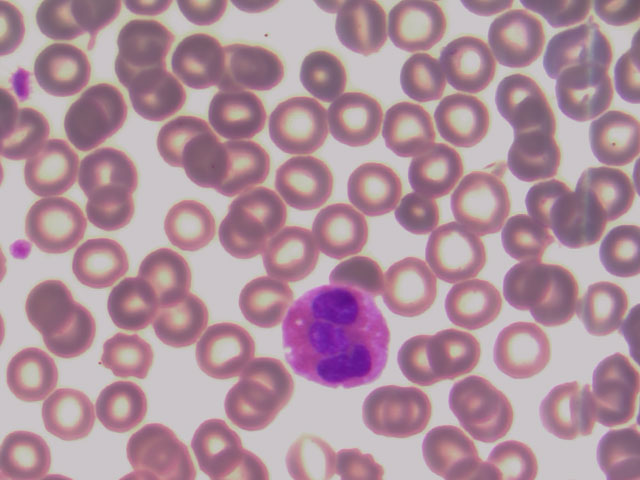Platelets: (6, 62, 34, 100), (6, 234, 35, 263)
RBC: (35, 43, 90, 100), (73, 82, 128, 139), (24, 135, 79, 192), (2, 106, 57, 163), (32, 198, 87, 255), (78, 142, 133, 199), (84, 180, 139, 237), (162, 199, 217, 256), (77, 229, 132, 286), (22, 271, 77, 328), (40, 304, 95, 361), (3, 346, 58, 403), (42, 382, 97, 439), (90, 377, 145, 434), (101, 327, 156, 384), (103, 283, 158, 340), (136, 241, 191, 298), (150, 284, 205, 341), (196, 322, 251, 379), (236, 350, 291, 407), (225, 387, 280, 444), (190, 416, 245, 473), (130, 420, 185, 477), (275, 423, 330, 480), (355, 386, 410, 443), (388, 385, 443, 442), (390, 333, 445, 390), (425, 321, 480, 378), (382, 256, 437, 313), (312, 203, 367, 260), (261, 228, 316, 285), (239, 265, 294, 322), (213, 207, 268, 264), (226, 183, 281, 240), (218, 138, 273, 195), (180, 132, 235, 189), (158, 116, 213, 173), (129, 75, 184, 132), (112, 46, 167, 103), (120, 14, 175, 71), (171, 31, 226, 88), (228, 39, 283, 96), (211, 81, 266, 138), (271, 97, 326, 154), (301, 45, 356, 102), (325, 94, 380, 151), (380, 103, 435, 160), (413, 140, 468, 197), (396, 187, 451, 244), (348, 158, 403, 215), (280, 153, 335, 210), (455, 174, 510, 231), (430, 226, 485, 283), (443, 266, 498, 323), (497, 318, 552, 375), (503, 260, 558, 317), (527, 265, 582, 322), (499, 214, 554, 271), (517, 176, 572, 233), (553, 192, 608, 249), (581, 161, 636, 218), (505, 134, 560, 191), (508, 96, 563, 153), (489, 71, 544, 128), (436, 94, 491, 151), (398, 54, 453, 111), (440, 38, 495, 95), (389, 1, 444, 58), (334, 1, 389, 58), (494, 10, 549, 67), (546, 22, 601, 79), (555, 62, 610, 119), (585, 101, 640, 158), (585, 217, 640, 274), (577, 281, 632, 338), (585, 341, 640, 398), (542, 383, 597, 440), (446, 367, 501, 424), (467, 393, 522, 450), (427, 421, 482, 478), (1, 422, 55, 479)
WBC: (281, 285, 390, 388)
